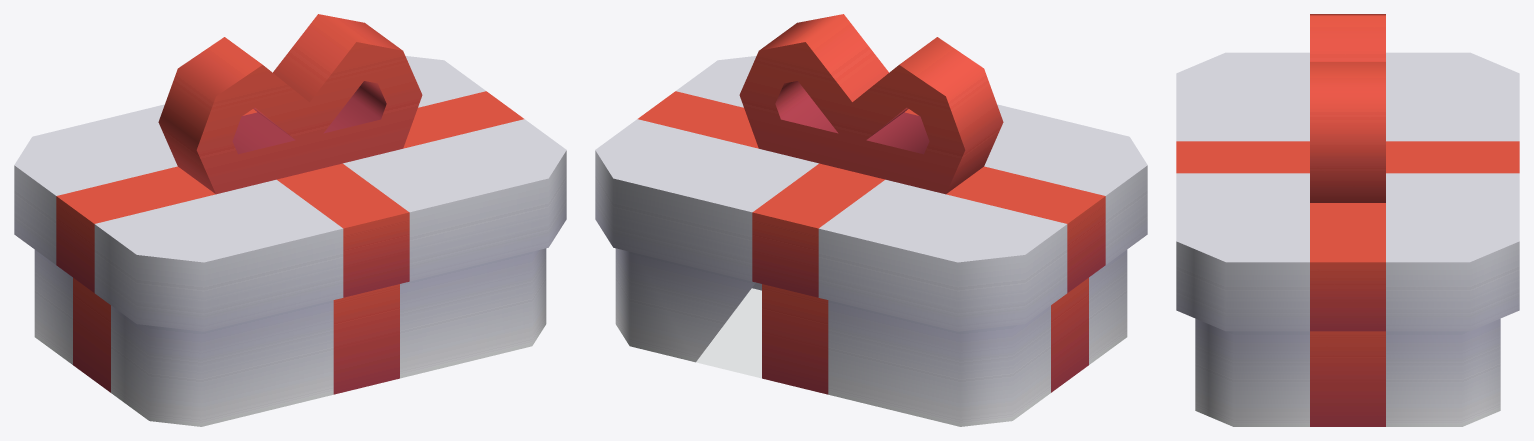
The model's file is present-a-rectangle.glb.
3 views of the same model, side by side, from view 1: azimuth 30°, elevation 25°; view 2: azimuth 150°, elevation 25°; view 3: azimuth 270°, elevation 25° (orthographic).
Visible parts, largest first — view 1: lid, present-a-rectangle; view 2: lid, present-a-rectangle; view 3: lid, present-a-rectangle.
Part boxes in pixels (bbox=[...]): lid: bbox=[14, 14, 566, 331]; present-a-rectangle: bbox=[34, 248, 546, 426]; lid: bbox=[595, 14, 1147, 331]; present-a-rectangle: bbox=[615, 248, 1127, 426]; lid: bbox=[1176, 14, 1519, 331]; present-a-rectangle: bbox=[1195, 318, 1500, 426].
Size of the model in its own units: 0.65 by 0.4207 by 0.45.
Materials: 1 (1 with a texture image).
